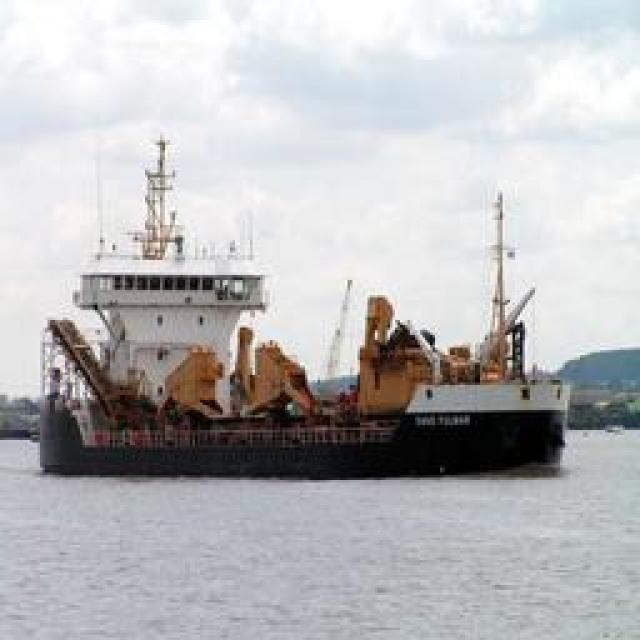CIV_Ship: (45, 162, 570, 472)
